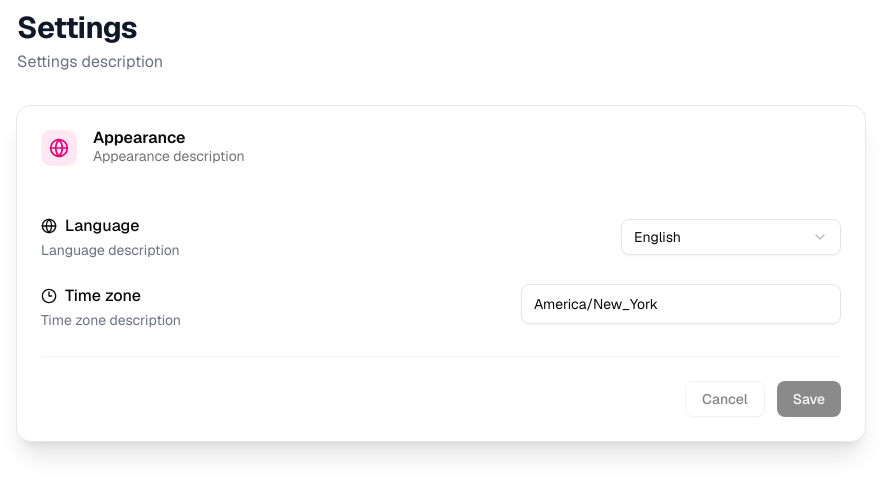
Test: SettingsClient › shows an error and does not save when the time zone cannot be canonicalized
The width and height of the screenshot is (883, 495).
Step 1. Replace the text in the field labelled "Time zone" with "Mars/Olympus" → (681, 304), box [521,284,841,324]
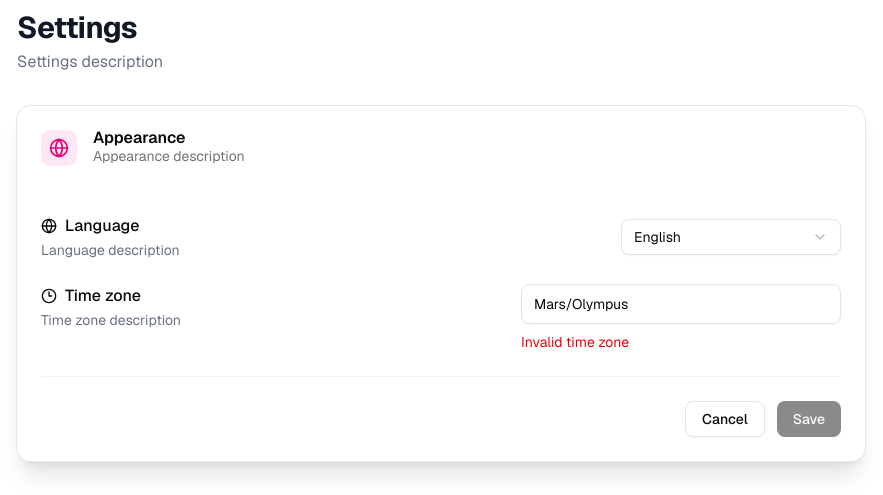
Expected: the button "Save" is disabled, [777,401,841,437]
Expected: the text "Invalid time zone" is shown, [521,333,629,351]
